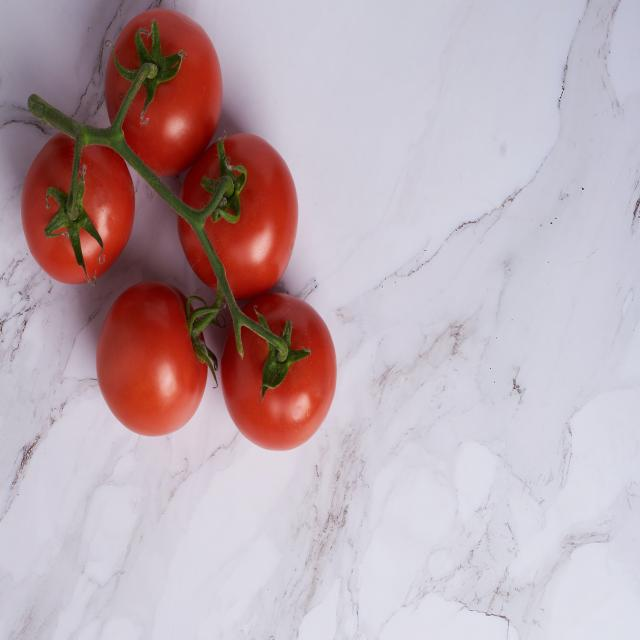Tomato: (179, 149, 308, 298), (22, 139, 146, 282), (109, 15, 219, 175), (232, 312, 353, 446)
